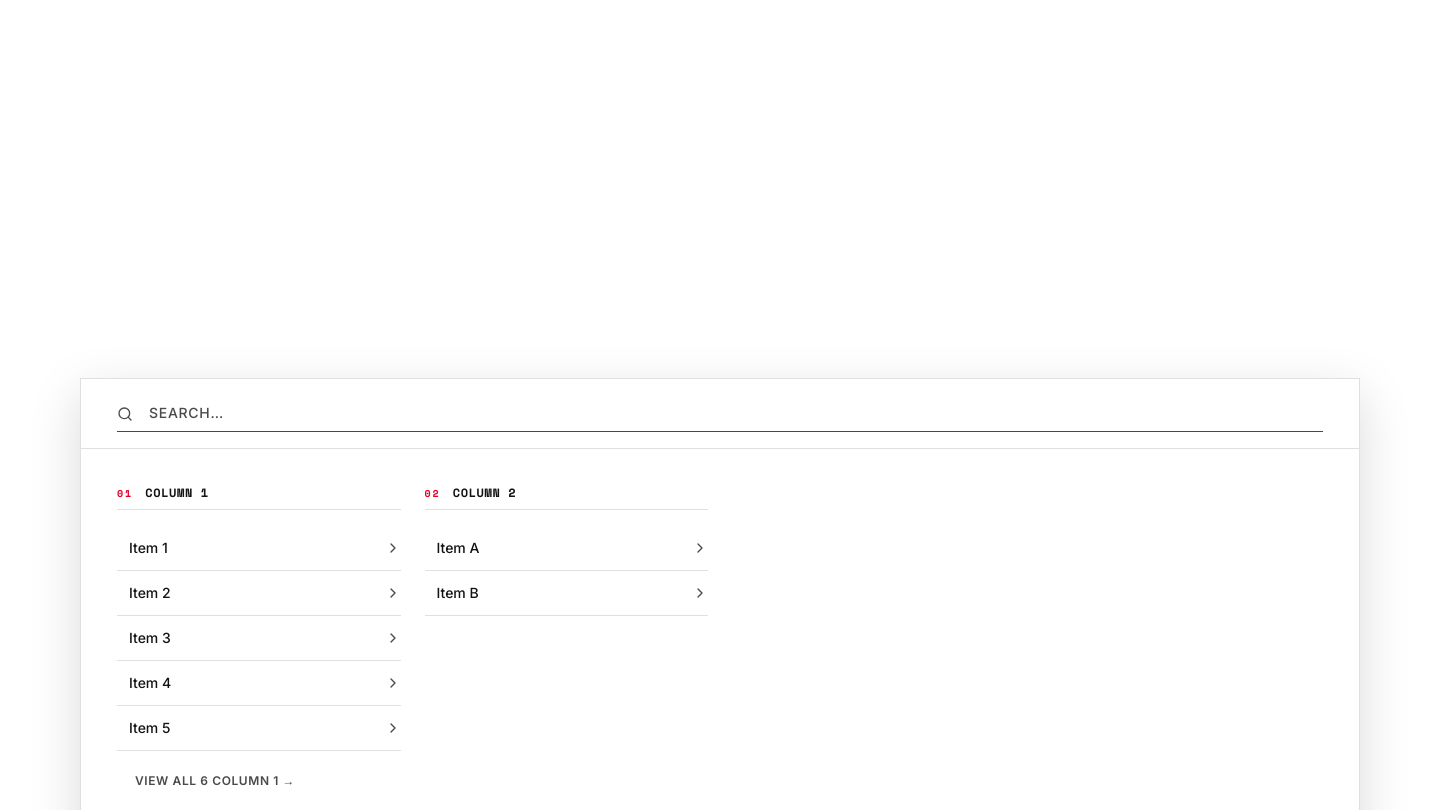
Scenario: MegaMenu › filters items when searching
This screenshot has width=1440, height=810.
(page scrolled)
Type "Item 1" into the search field with placeholder "SEARCH…" at x=720, y=414, box [117,395,1323,432]
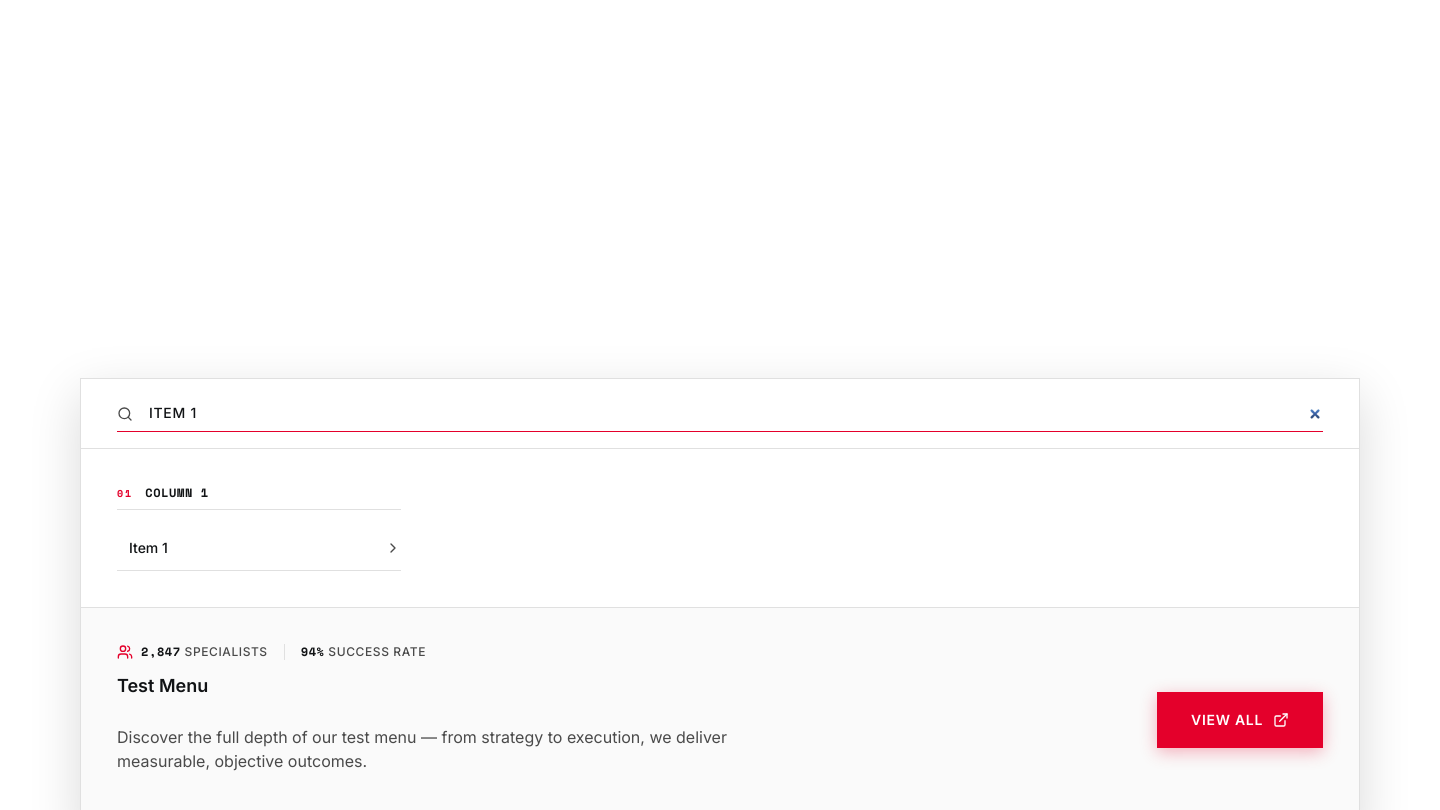
Expected: the text "Item 1" is shown, [129,538,168,558]
Expected: the link "Item 2" is gone
Expected: the link "Item A" is gone
